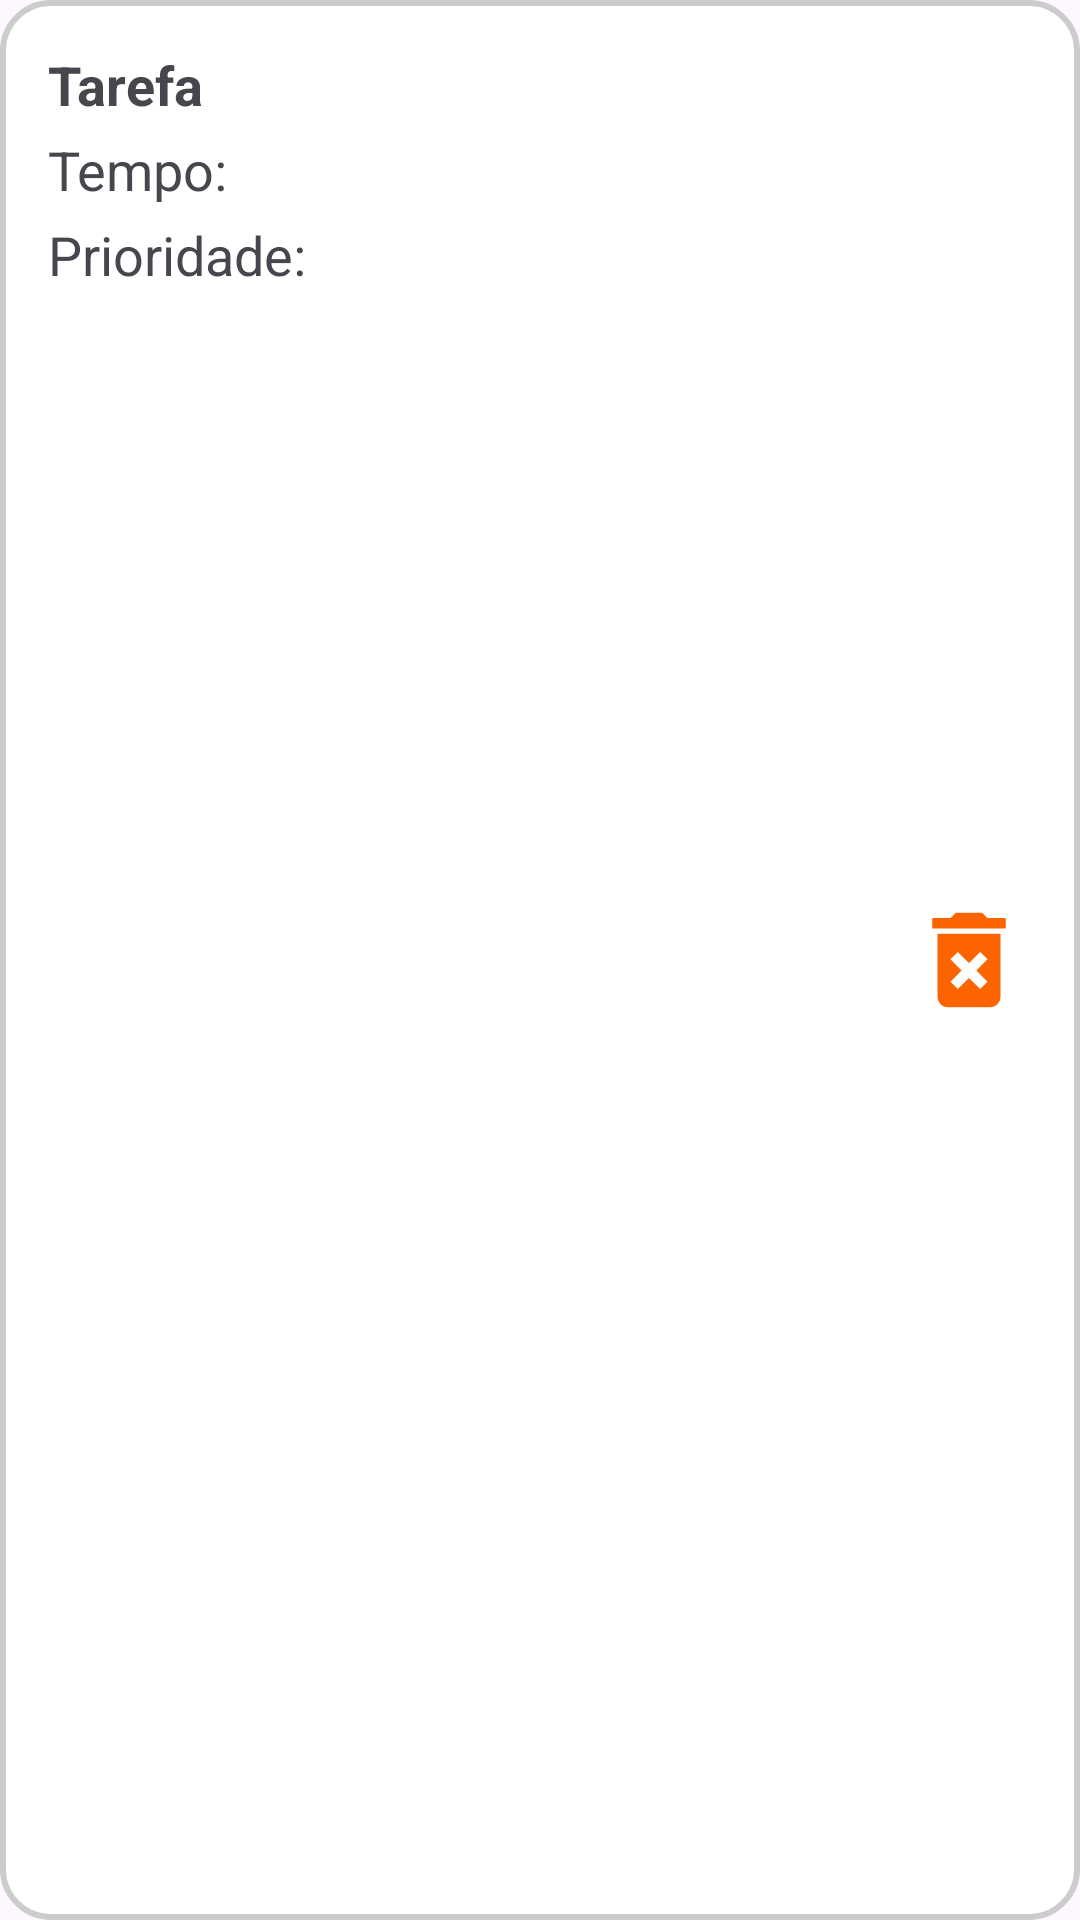

Icons on this 1080px x 1920px Android screen, each with the point to tap as (x,y):
Deletar Tarefa: (969,960)
